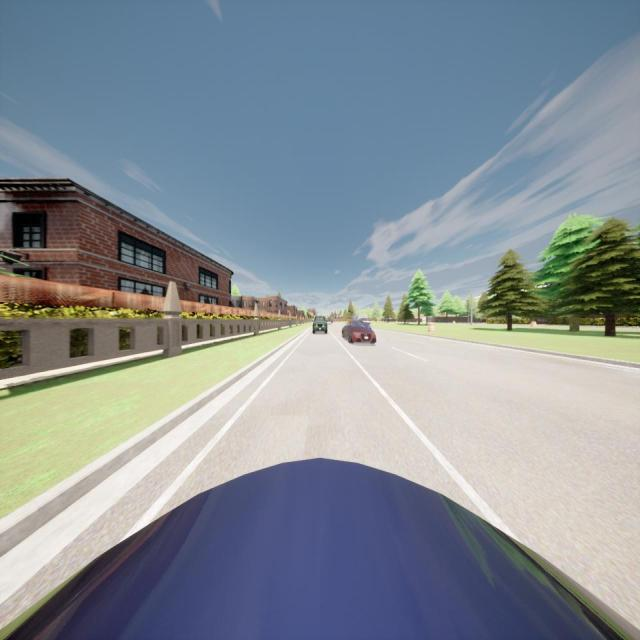Vehicle: (1, 455, 640, 640), (342, 322, 376, 345), (312, 315, 328, 334), (352, 314, 371, 324), (327, 320, 332, 326)
